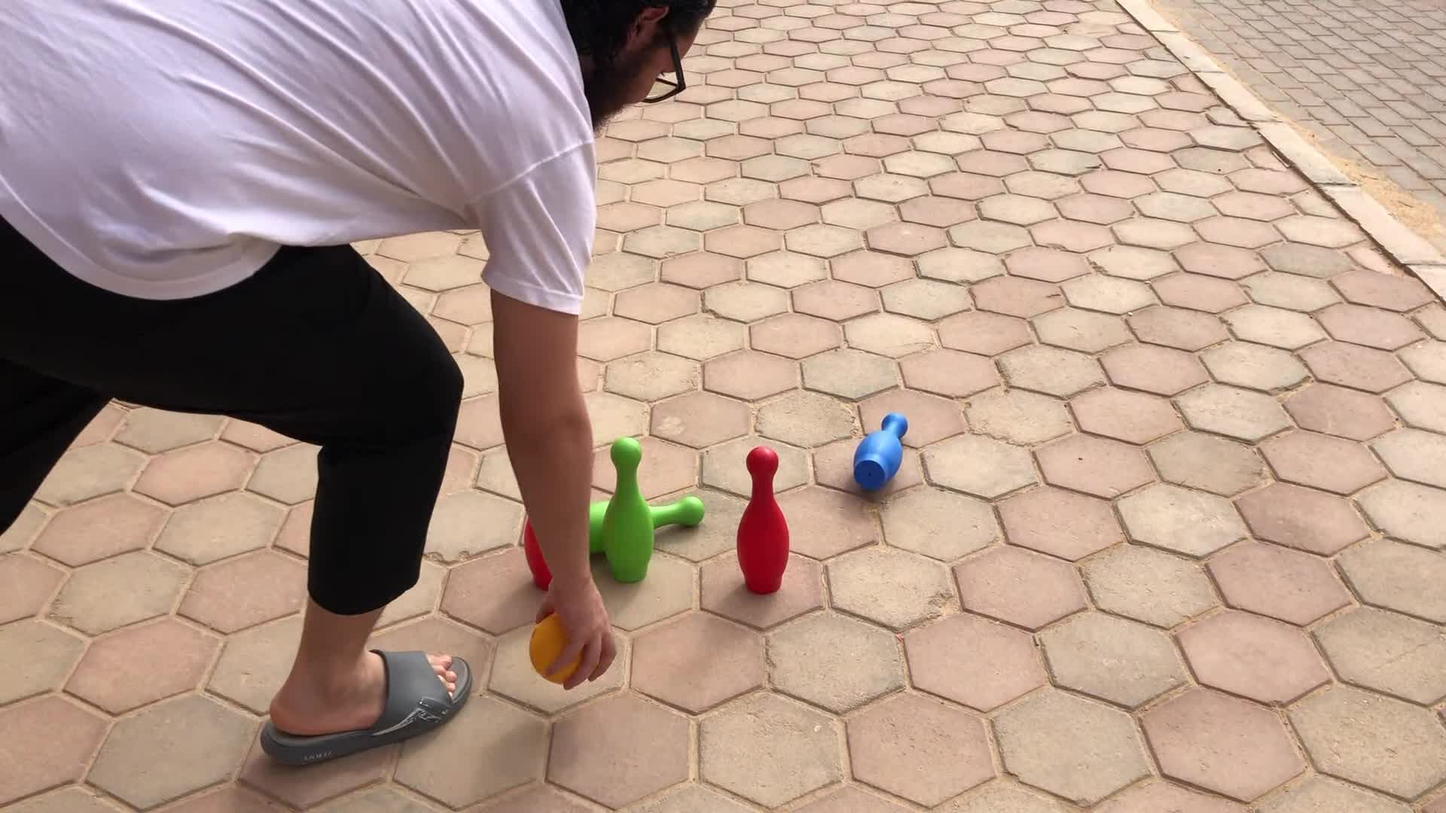bowling-pin: (738, 446, 789, 595), (604, 437, 654, 585), (854, 413, 908, 495), (524, 504, 569, 590), (650, 495, 706, 528)
